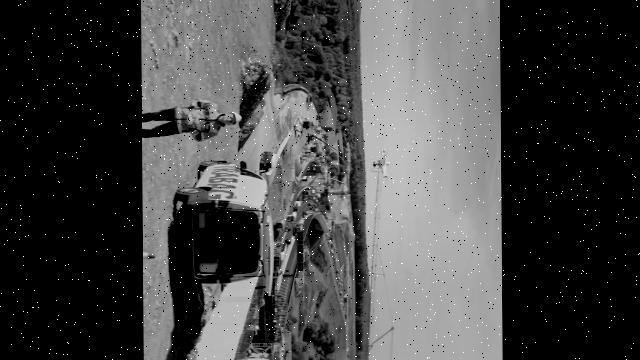drone: (370, 145, 390, 183)
